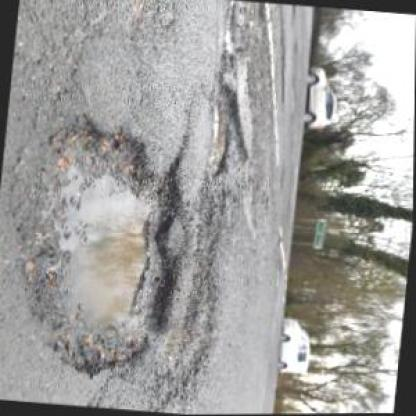pothole: (6, 118, 196, 384), (200, 81, 257, 182)
